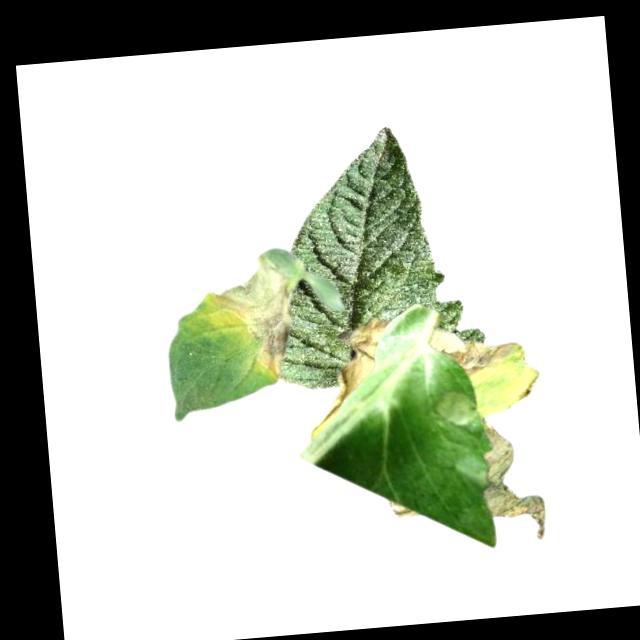Late_blight: (203, 248, 301, 386), (450, 415, 551, 547), (298, 316, 398, 440), (425, 323, 545, 423), (434, 385, 482, 430), (387, 496, 419, 521)
healthy: (259, 119, 489, 391)
